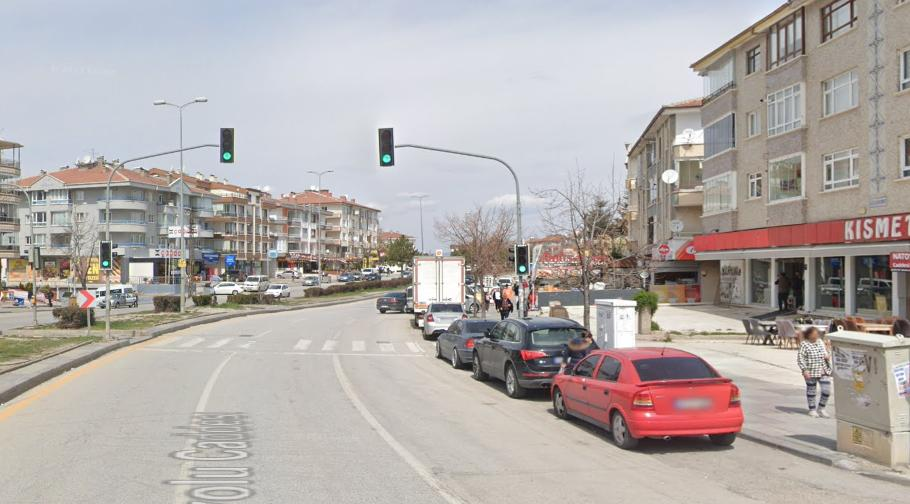greenlight: (379, 127, 396, 166), (220, 127, 235, 163), (516, 245, 529, 274), (100, 242, 112, 270)
